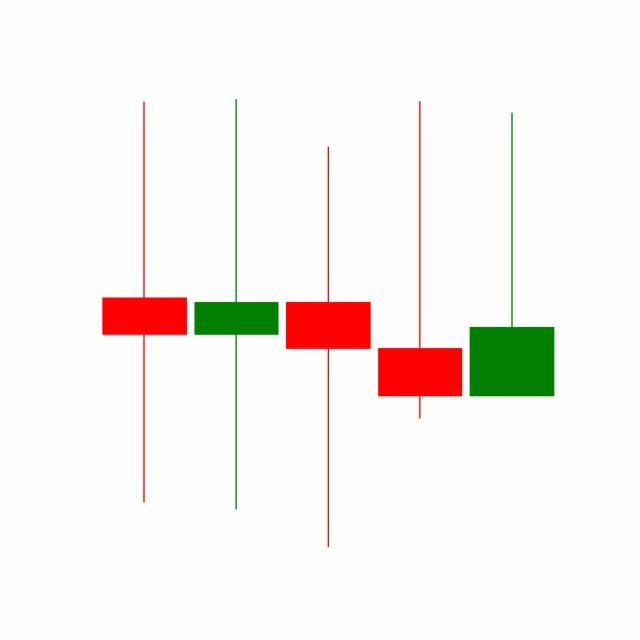Gravestone Doji: (374, 99, 468, 424)
